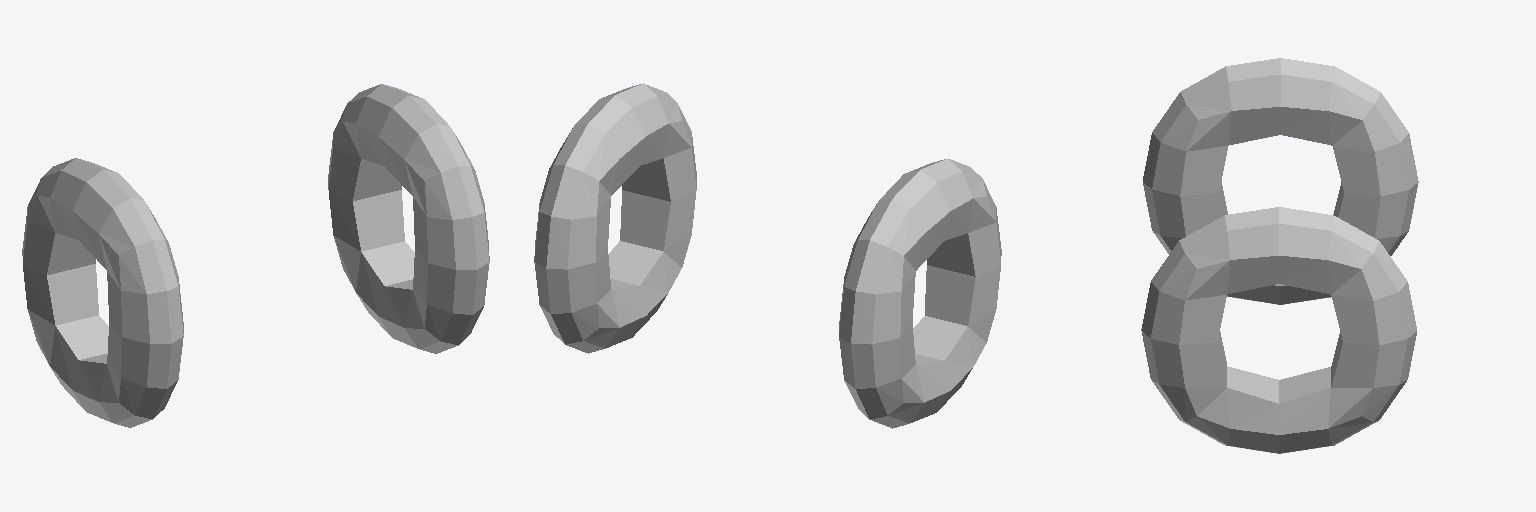
Rendered from tank_taiya.obj.
3 renders of one model, left to right at view 1: azimuth 30°, elevation 25°; view 2: azimuth 150°, elevation 25°; view 3: azimuth 270°, elevation 25°, orthographic.
Parts seen in each view (by area): view 1: taiya2_立方体.002, taiya1_立方体.001; view 2: taiya2_立方体.002, taiya1_立方体.001; view 3: taiya2_立方体.002, taiya1_立方体.001.
Part boxes in pixels (x1,y1,x2,y2): taiya2_立方体.002: (328, 84, 489, 353); taiya1_立方体.001: (22, 158, 183, 427); taiya2_立方体.002: (534, 83, 696, 353); taiya1_立方体.001: (839, 158, 1001, 428); taiya2_立方体.002: (1141, 207, 1416, 453); taiya1_立方体.001: (1143, 58, 1418, 304).
Size of the model in its own units: 2.3 by 1.48 by 1.5.